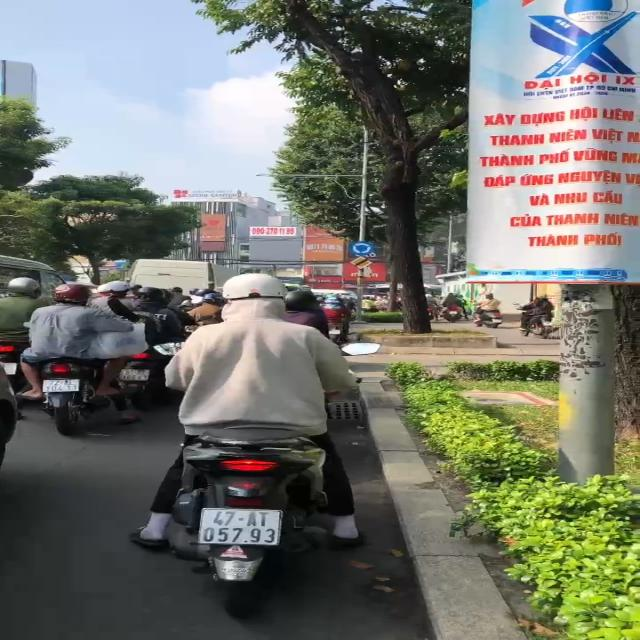Bien bao noi giao nhau chay theo vong xuyen: (348, 240, 376, 257)
